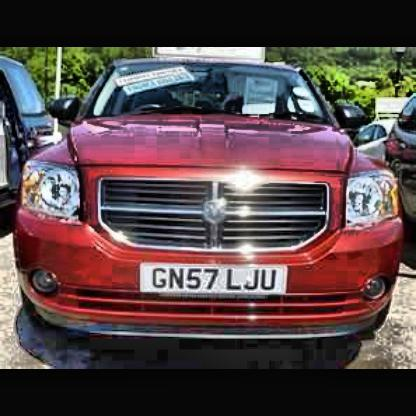Dodge Caliber Wagon 2007: (16, 61, 408, 343)
